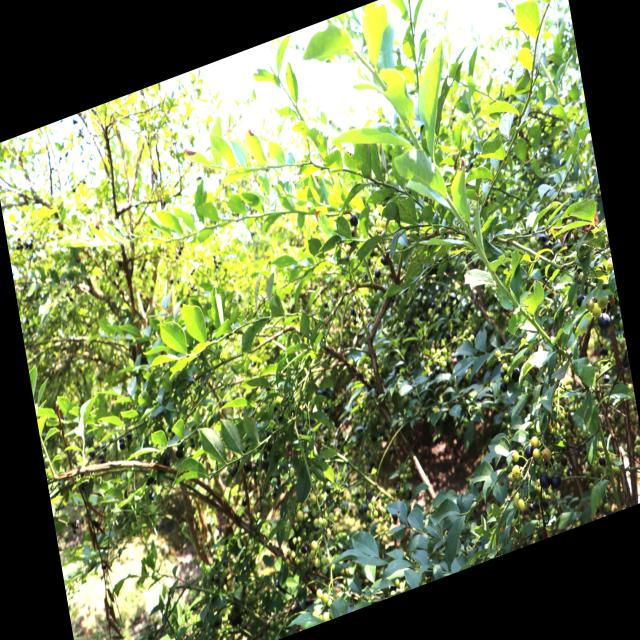blueberry: (594, 310, 612, 334), (547, 470, 564, 492), (538, 469, 552, 491), (574, 290, 588, 309), (521, 443, 534, 462), (510, 363, 522, 382), (378, 254, 392, 270), (323, 562, 335, 578), (498, 377, 510, 393), (496, 366, 508, 382), (559, 453, 570, 470), (403, 487, 415, 502), (348, 212, 358, 228), (298, 542, 309, 556), (310, 519, 321, 533), (229, 462, 240, 476), (293, 422, 305, 434), (392, 483, 402, 496), (426, 368, 436, 381), (373, 267, 382, 281), (601, 372, 611, 384), (597, 454, 606, 467), (273, 578, 282, 591), (363, 448, 372, 461), (263, 429, 273, 440), (362, 502, 371, 514), (363, 514, 372, 526), (365, 462, 374, 474), (320, 388, 329, 400), (306, 415, 315, 427), (365, 490, 374, 501), (433, 364, 442, 375), (527, 501, 535, 513), (388, 444, 396, 456), (448, 290, 456, 302), (260, 459, 268, 470), (542, 498, 550, 508), (533, 498, 541, 508), (381, 433, 389, 443), (357, 506, 364, 516), (349, 306, 356, 316), (440, 298, 447, 308), (240, 498, 246, 509), (433, 306, 441, 314), (346, 507, 353, 516), (352, 317, 359, 326), (322, 299, 329, 308), (340, 506, 347, 514), (445, 333, 452, 341), (378, 428, 384, 436), (321, 435, 328, 441), (355, 491, 360, 499), (336, 442, 341, 450)
blueberry-unripe: (596, 293, 610, 311), (590, 301, 602, 318), (531, 446, 542, 462), (542, 446, 552, 463), (529, 434, 540, 449), (516, 498, 526, 513), (584, 297, 594, 311), (321, 590, 330, 605), (511, 450, 520, 464), (511, 464, 520, 478), (296, 508, 304, 522), (322, 609, 330, 622), (316, 586, 323, 600), (314, 556, 322, 568), (311, 540, 318, 552), (321, 553, 328, 565), (309, 494, 317, 504), (502, 361, 509, 371)
